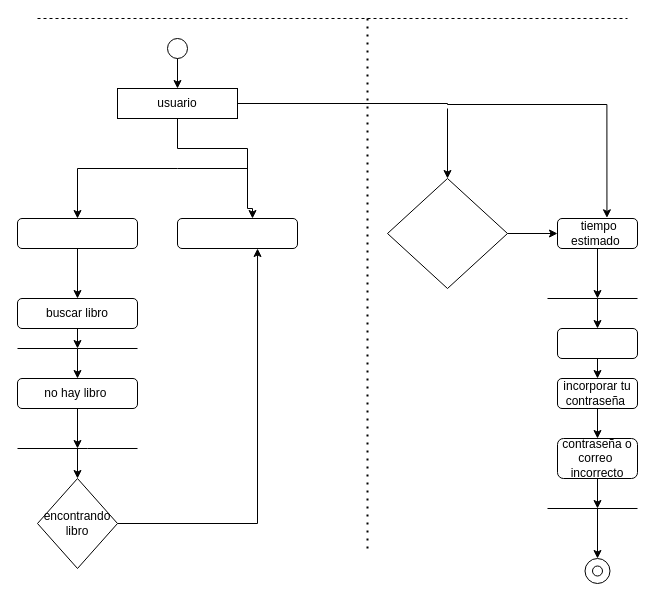
Image size: 656x601. Some labels were removed from this diagram. The shapes that lost their labels are listed below. From the top down, each one's box as (x1, y1, x2, y2) in pixels, then its label:
(16, 218, 138, 248): cachear tu nombre
(176, 218, 298, 248): registrar libro
(386, 178, 508, 288): anexar libro
(556, 328, 638, 358): incorporar tu correo
